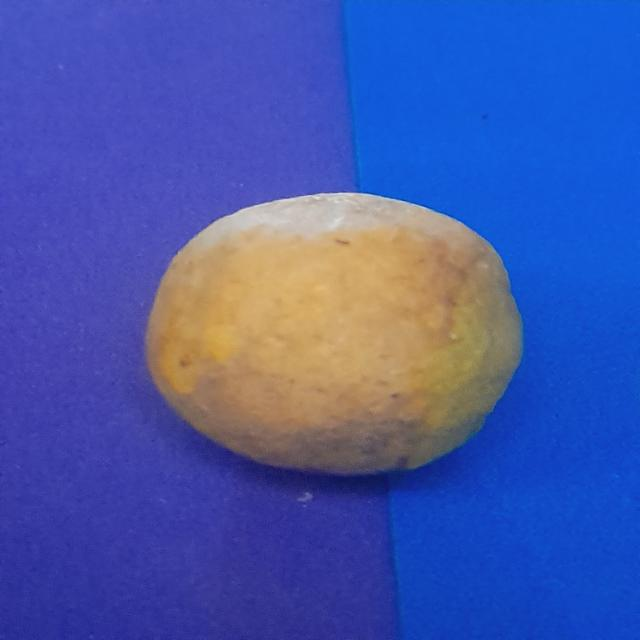thrips: (138, 192, 522, 477)
